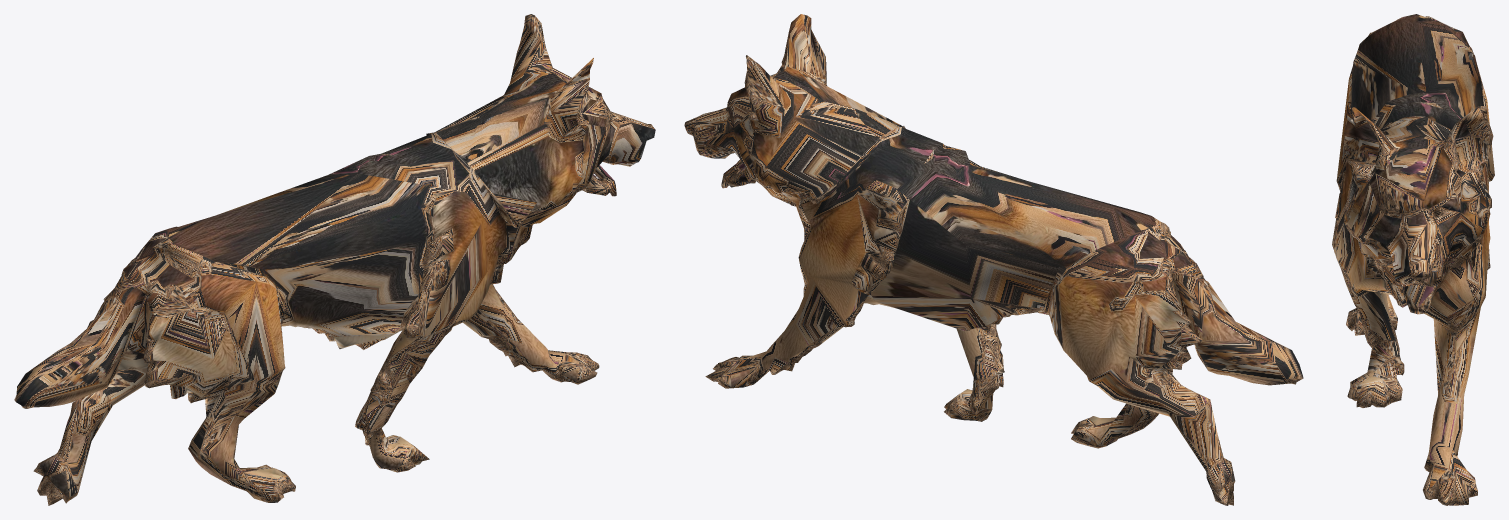
3 views of the same model, side by side, from view 1: azimuth 30°, elevation 25°; view 2: azimuth 150°, elevation 25°; view 3: azimuth 270°, elevation 25° (orthographic). The views are drawn at different scales.
Parts seen in each view (by area): view 1: Object_4; view 2: Object_4; view 3: Object_4.
Part boxes in pixels (box(x1,y1,x2,y2)): Object_4: box(14, 14, 655, 505); Object_4: box(684, 14, 1303, 505); Object_4: box(1332, 14, 1494, 505).
Bounding box in the file's own units: 1 × 0.5499 × 0.2074.
1 material, 1 textured.
